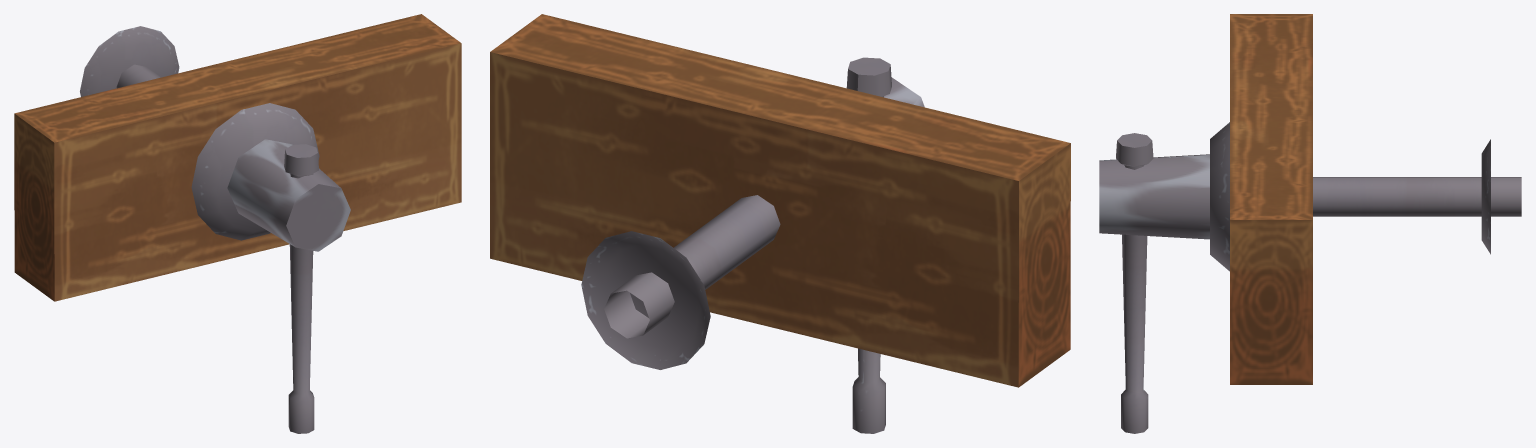
The model's file is Workbench_Vice.fbx.
3 renders of one model, left to right at view 1: azimuth 30°, elevation 25°; view 2: azimuth 150°, elevation 25°; view 3: azimuth 270°, elevation 25°, orthographic. The views are drawn at different scales.
Parts seen in each view (by area): view 1: Workbench_Vice; view 2: Workbench_Vice; view 3: Workbench_Vice.
Part boxes in pixels (bbox=[...]): Workbench_Vice: bbox=[14, 14, 461, 433]; Workbench_Vice: bbox=[490, 14, 1070, 433]; Workbench_Vice: bbox=[1099, 14, 1521, 433].
Size of the model in its own units: 39.78 by 28.13 by 34.45.
